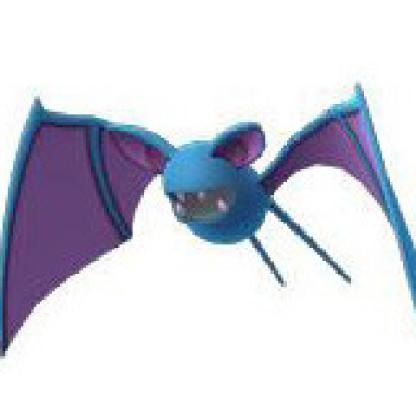Zubat: (12, 64, 415, 355)
